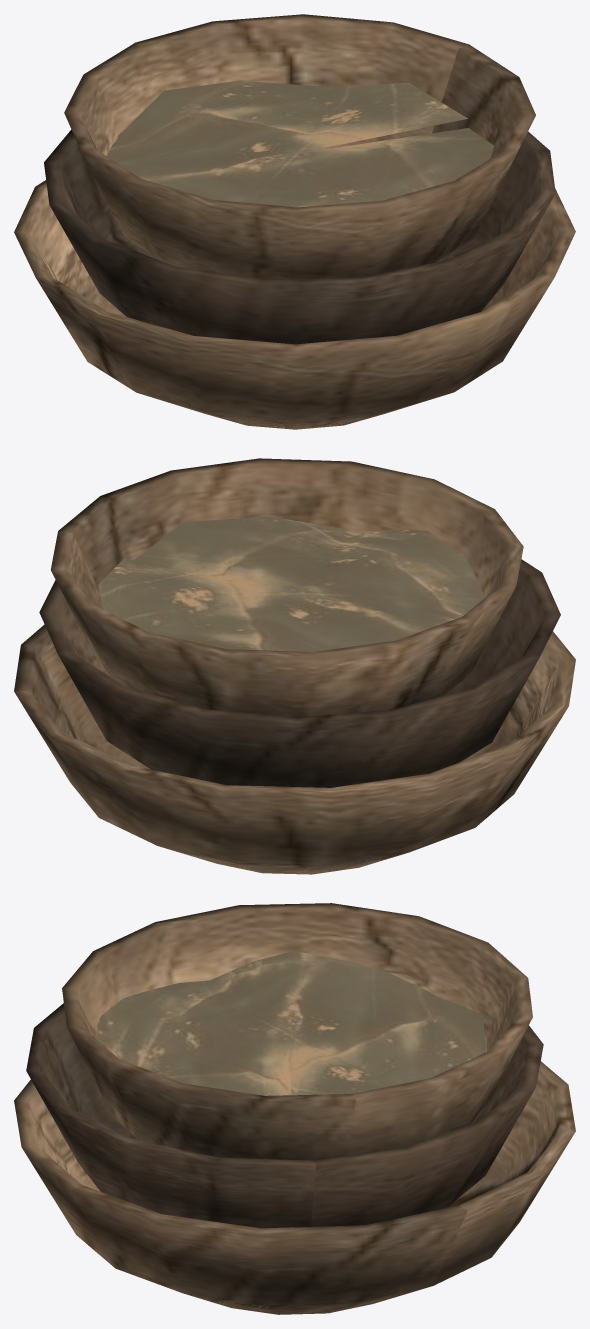
The model's file is kit_sf_three_bowls_p.glb.
3 renders of one model, top to bottom at view 1: azimuth 30°, elevation 25°; view 2: azimuth 150°, elevation 25°; view 3: azimuth 270°, elevation 25°, orthographic.
Visible parts, largest first — view 1: kit_sf_three_bowls_p; view 2: kit_sf_three_bowls_p; view 3: kit_sf_three_bowls_p.
Part boxes in pixels (x1,y1,x2,y2): kit_sf_three_bowls_p: (14, 14, 575, 429); kit_sf_three_bowls_p: (14, 458, 575, 874); kit_sf_three_bowls_p: (14, 903, 575, 1314).
Size of the model in its own units: 0.2975 by 0.153 by 0.2975.
1 material, 1 textured.
